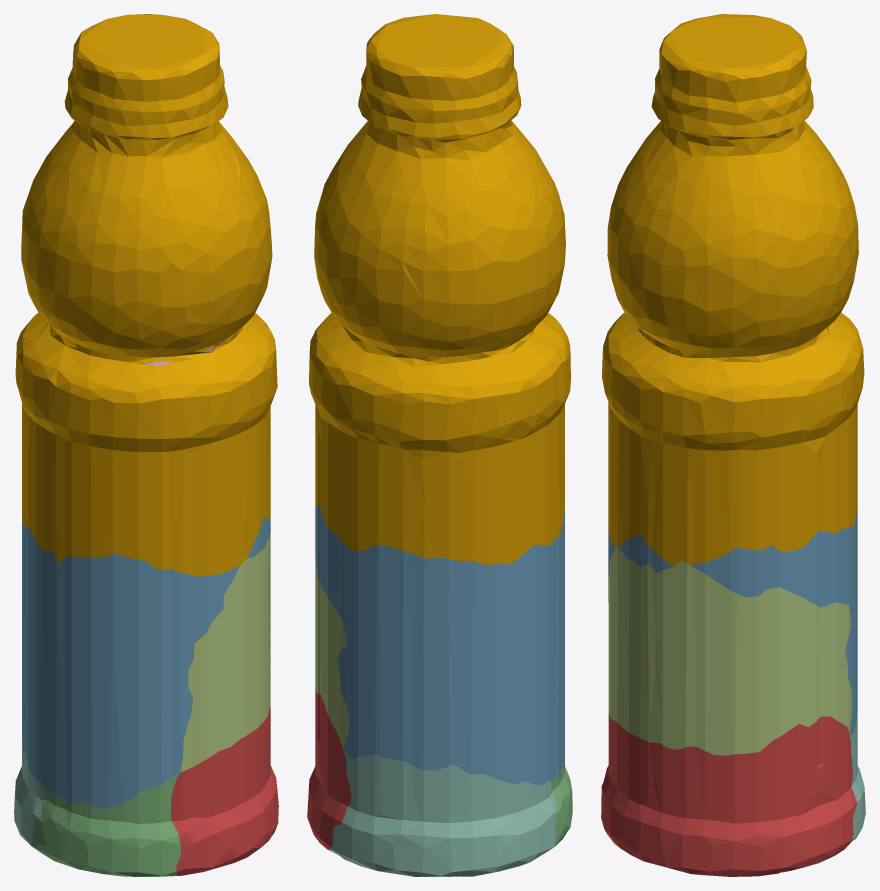
The model's file is fractured_20_8pcs.glb.
3 renders of one model, left to right at view 1: azimuth 30°, elevation 25°; view 2: azimuth 150°, elevation 25°; view 3: azimuth 270°, elevation 25°, orthographic.
Parts seen in each view (by area): view 1: piece_0.obj, piece_2.obj, piece_5.obj, piece_1.obj, piece_3.obj, piece_4.obj; view 2: piece_0.obj, piece_2.obj, piece_4.obj, piece_1.obj, piece_5.obj, piece_3.obj; view 3: piece_0.obj, piece_5.obj, piece_1.obj, piece_2.obj, piece_4.obj.
Boxes of the visible parts, box(x1,y1,x2,y2) form: piece_0.obj: box(15, 14, 277, 576); piece_2.obj: box(22, 515, 270, 807); piece_5.obj: box(180, 533, 270, 772); piece_1.obj: box(171, 706, 278, 875); piece_3.obj: box(32, 772, 180, 876); piece_4.obj: box(14, 732, 46, 846); piece_0.obj: box(309, 14, 570, 564); piece_2.obj: box(315, 505, 564, 785); piece_4.obj: box(330, 750, 557, 876); piece_1.obj: box(307, 686, 351, 851); piece_5.obj: box(315, 559, 348, 749); piece_3.obj: box(550, 756, 572, 845); piece_0.obj: box(602, 14, 864, 566); piece_5.obj: box(608, 547, 851, 755); piece_1.obj: box(601, 713, 856, 876); piece_2.obj: box(608, 501, 857, 734); piece_4.obj: box(849, 712, 865, 843).
Size of the model in its own units: 0.3065 by 1 by 0.3062.
